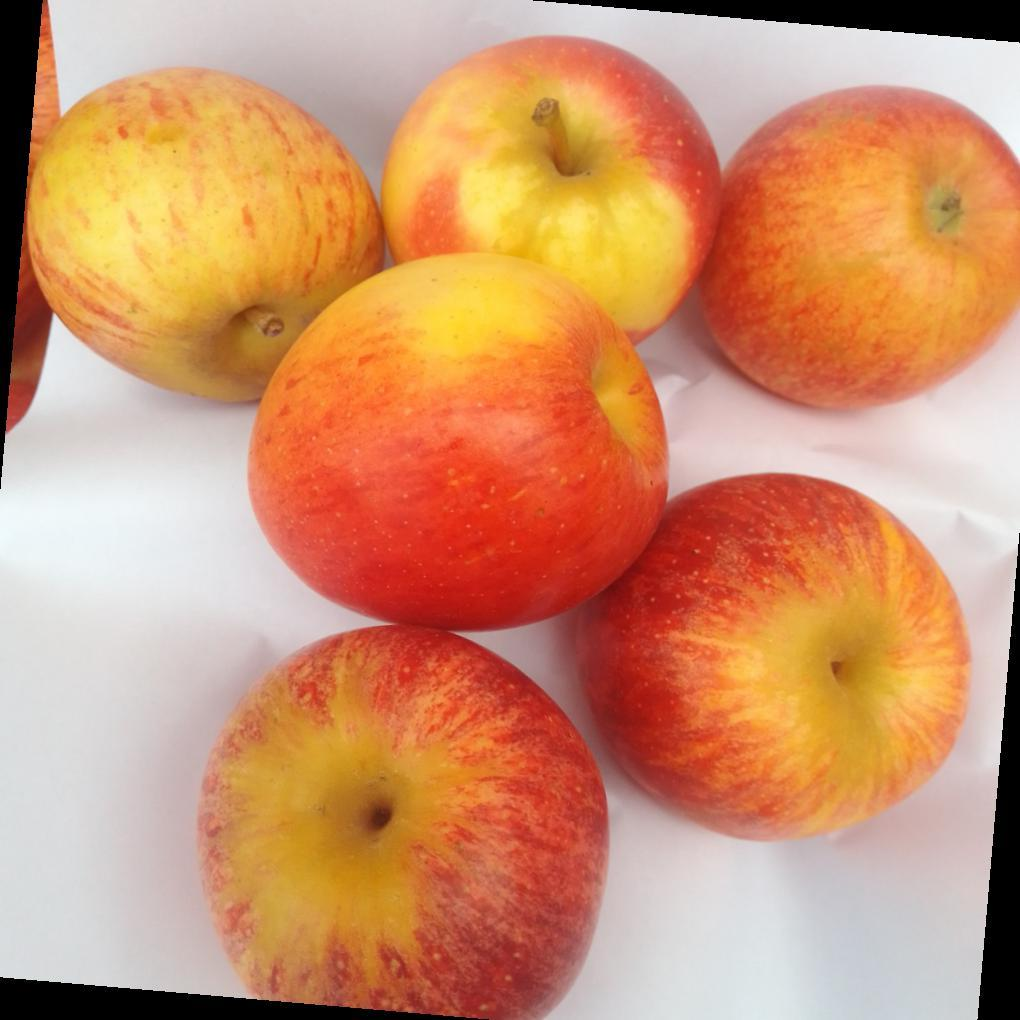FreshGuava: (20, 34, 1020, 1020)
